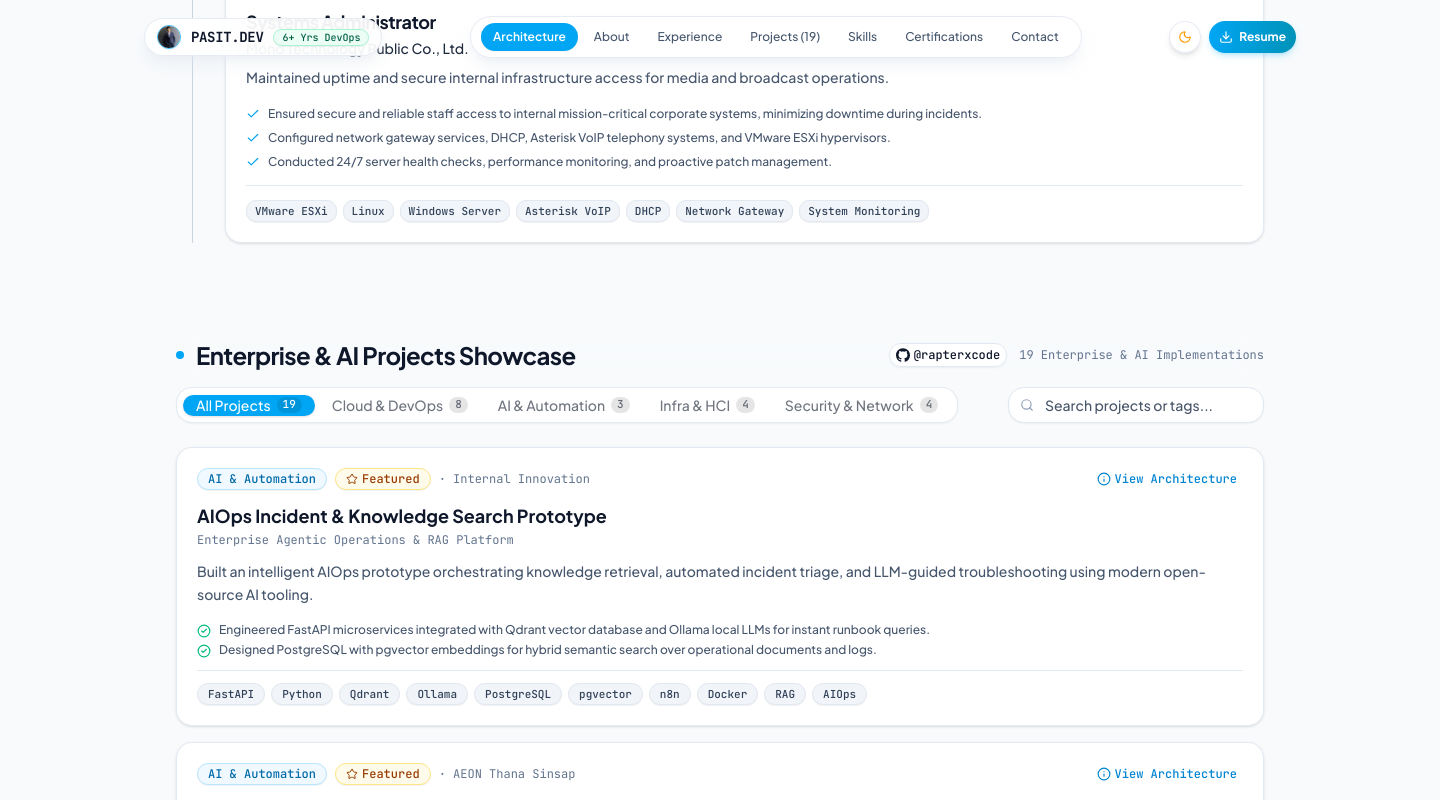
Portfolio App (React 19 + shadcn/ui) › filters projects via search input and opens/closes accessible Architecture Dialog
This screenshot has width=1440, height=800.
(page scrolled)
Type "pgvector" into the search field labelled "Search projects or tags..." at (1136, 405), box [1008,387,1264,423]
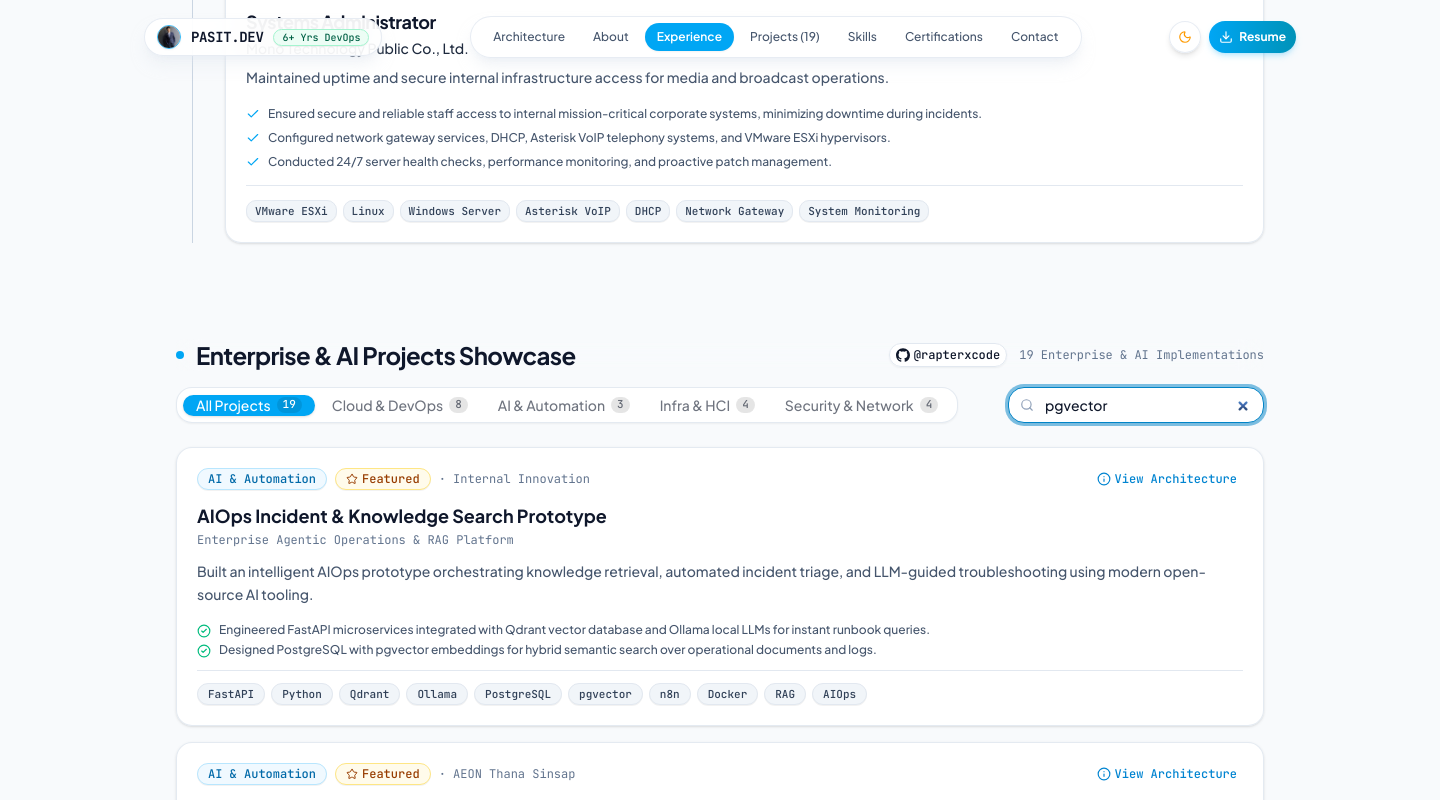
Click the button "View Architecture" in the row of "Internal Innovation" at (1167, 479), box [1091,471,1243,487]
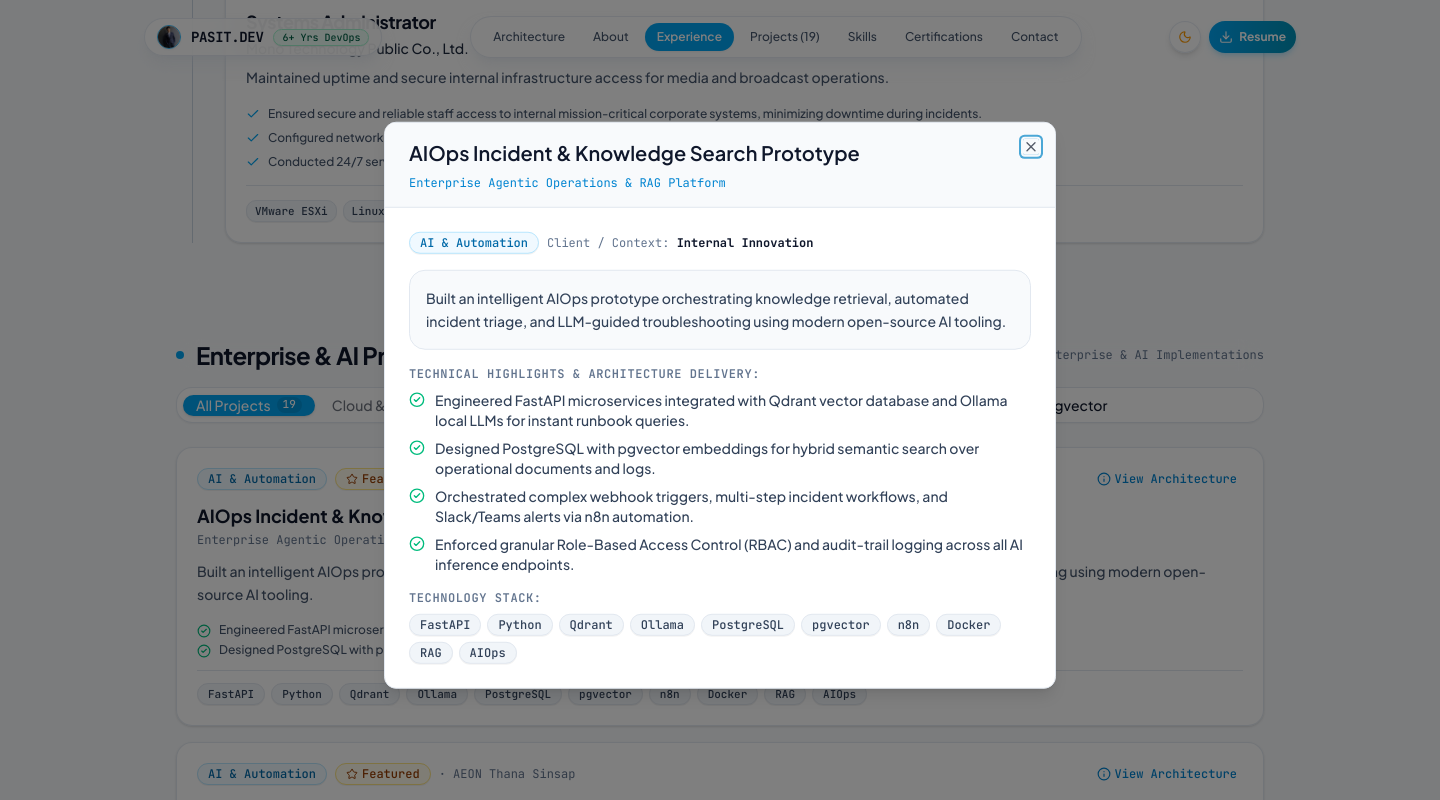
Now the dialog is shown, box [384,122,1056,688]
Now the heading "Technology Stack:" is shown, box [409,589,542,605]
Press Escape
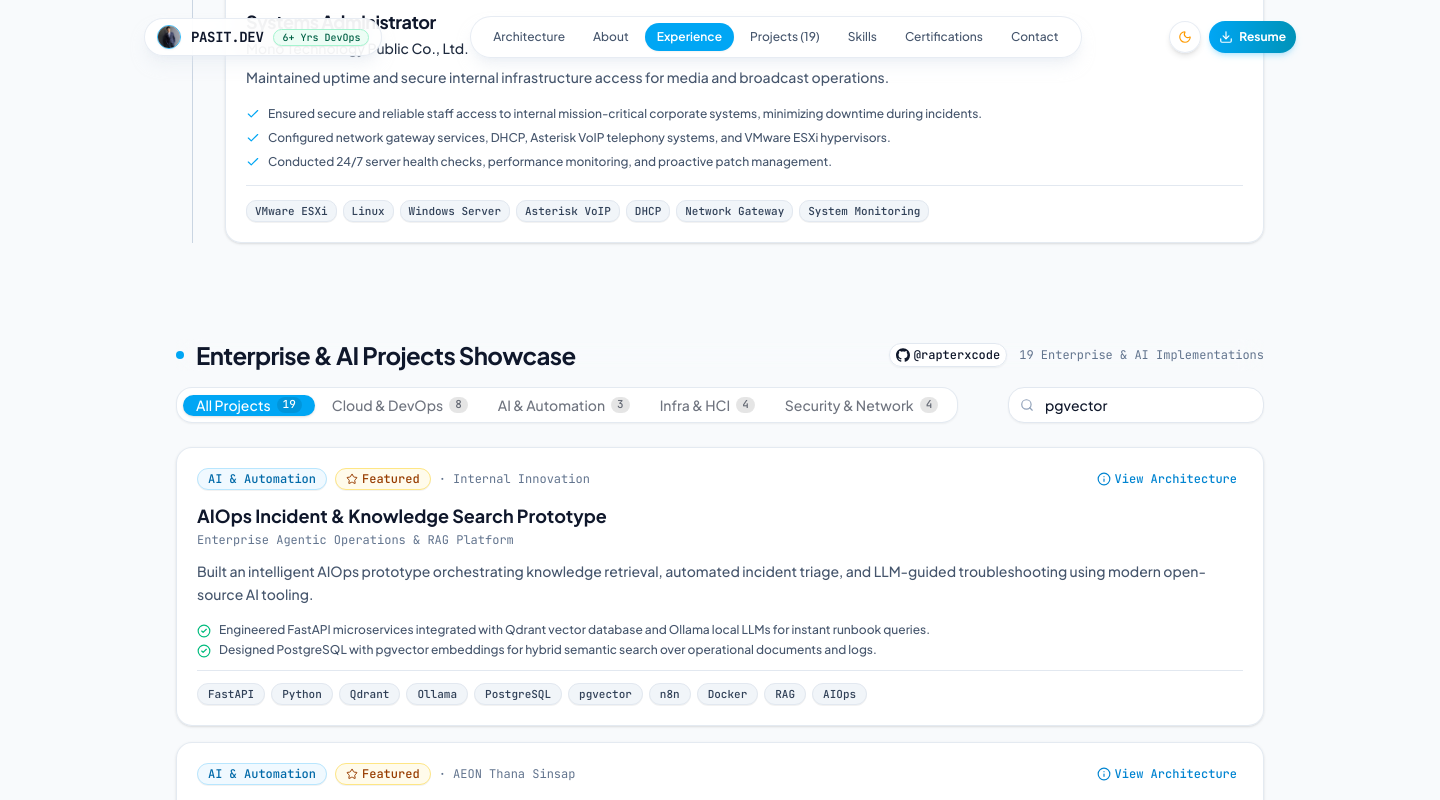
Now the dialog is gone
